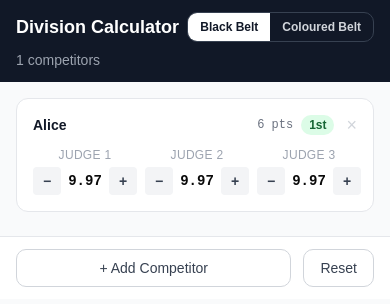
Test case: CalculatorPage › + button (better) decreases displayed score
This screenshot has width=390, height=304.
Click the button named "judge 1 better" at (123, 181), box [109, 167, 137, 195]
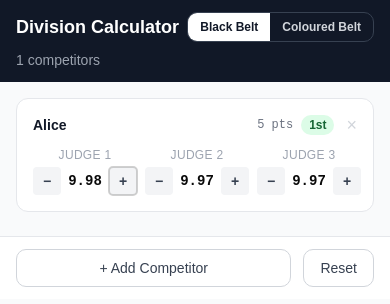
Check: the text "9.98" is shown, box [68, 173, 102, 189]
